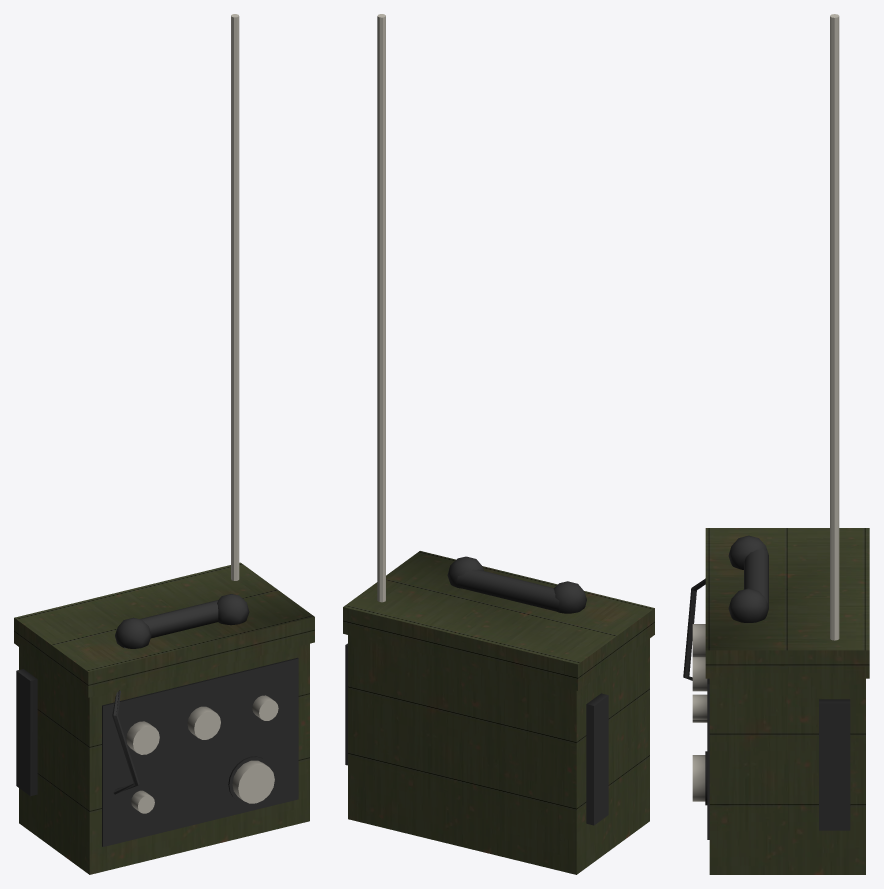
Rendered from field_radio.glb.
3 renders of one model, left to right at view 1: azimuth 30°, elevation 25°; view 2: azimuth 150°, elevation 25°; view 3: azimuth 270°, elevation 25°, orthographic. The views are drawn at different scales.
Parts seen in each view (by area): view 1: Field_Radio; view 2: Field_Radio; view 3: Field_Radio.
Part boxes in pixels (x1,y1,x2,y2): Field_Radio: (14, 14, 314, 874); Field_Radio: (343, 14, 654, 874); Field_Radio: (683, 14, 869, 874).
Size of the model in its own units: 0.392 by 1.2 by 0.2389.
3 materials, 1 textured.
